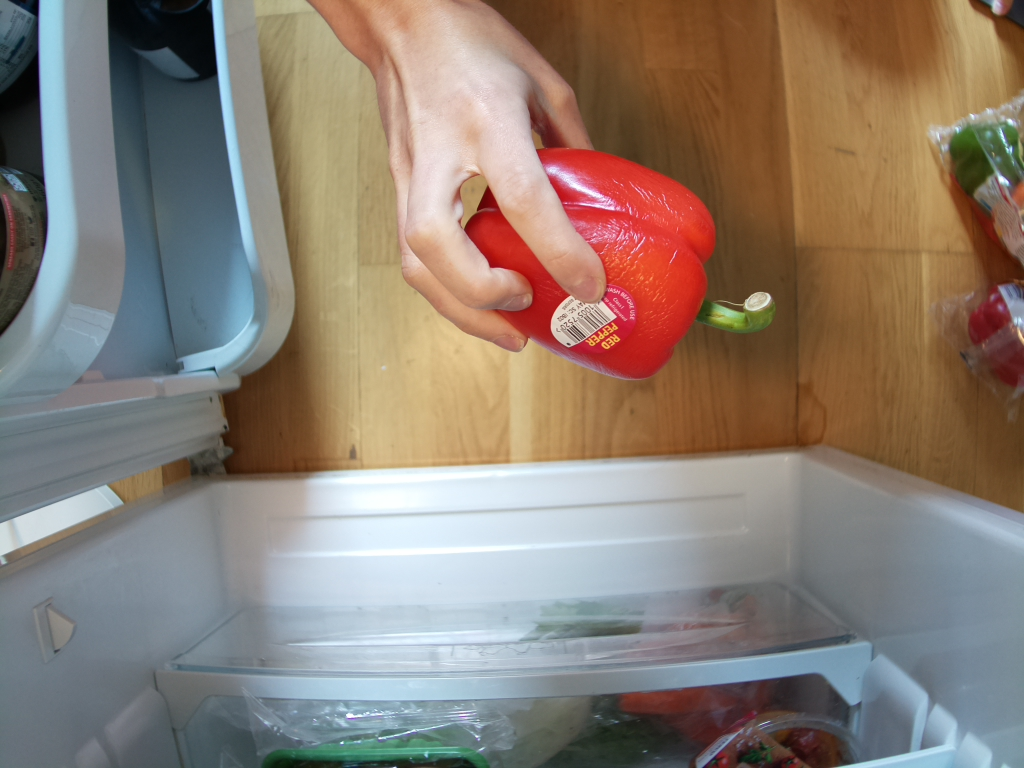pepper-bad: (466, 142, 783, 381)
